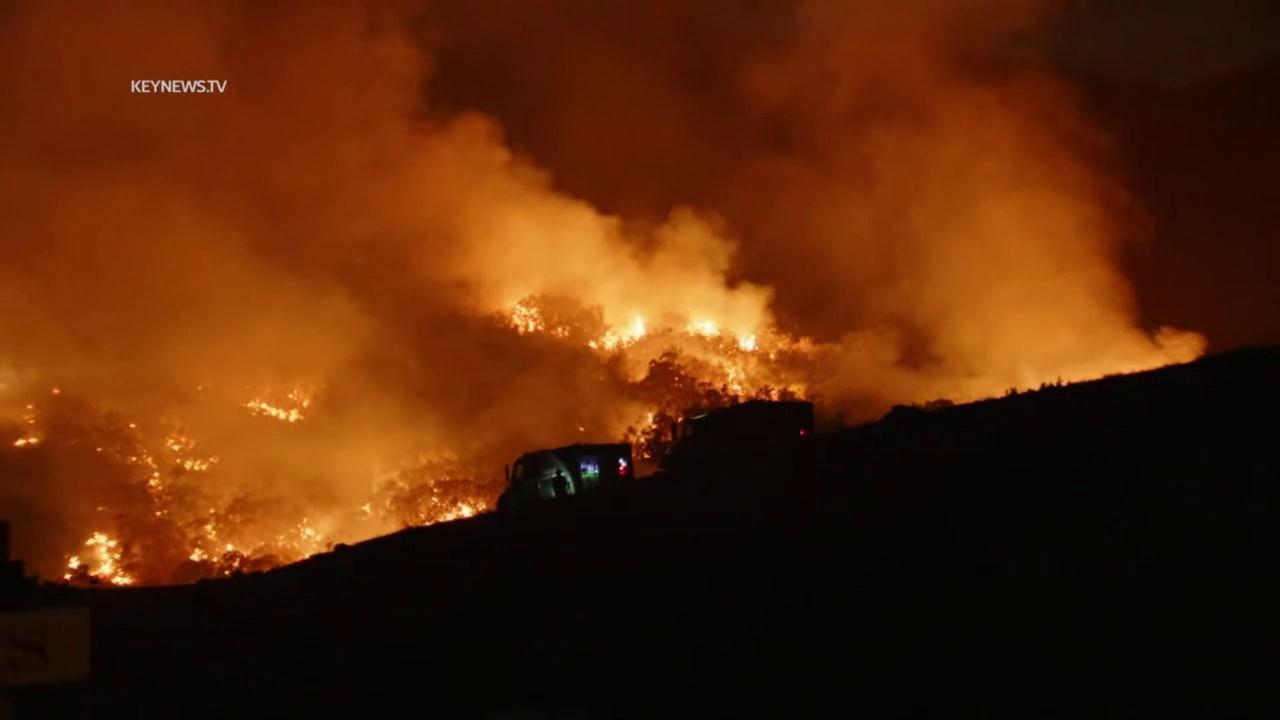fire: (62, 529, 140, 587), (238, 386, 314, 424), (270, 517, 331, 561), (123, 441, 164, 500), (585, 312, 647, 351), (420, 494, 487, 526), (510, 304, 546, 337), (170, 456, 222, 473), (682, 320, 721, 337), (164, 435, 201, 452), (725, 366, 746, 393), (188, 547, 219, 564), (735, 333, 761, 352), (201, 522, 221, 544), (10, 435, 40, 449), (223, 556, 242, 576), (644, 410, 661, 429), (359, 501, 372, 513), (641, 450, 652, 460), (226, 542, 235, 553), (767, 352, 777, 361), (637, 435, 648, 443)
smoke: (0, 0, 1280, 594)
